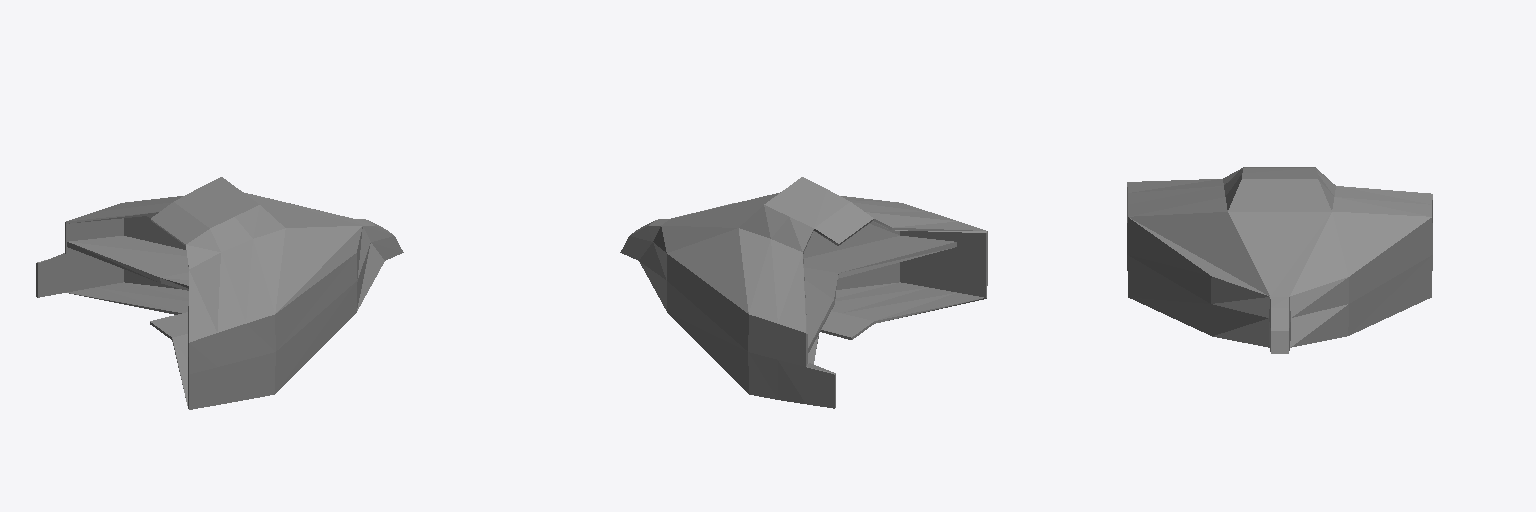
File: ship-front01.obj
The picture shows the model from 3 angles: view 1: azimuth 30°, elevation 25°; view 2: azimuth 150°, elevation 25°; view 3: azimuth 270°, elevation 25°; orthographic projection.
Visible parts, largest first — view 1: Object001; view 2: Object001; view 3: Object001.
Part boxes in pixels (x1,y1,x2,y2): Object001: (36, 177, 403, 409); Object001: (620, 177, 987, 408); Object001: (1127, 167, 1432, 353).
Bounding box in the file's own units: 111 × 51 × 102.